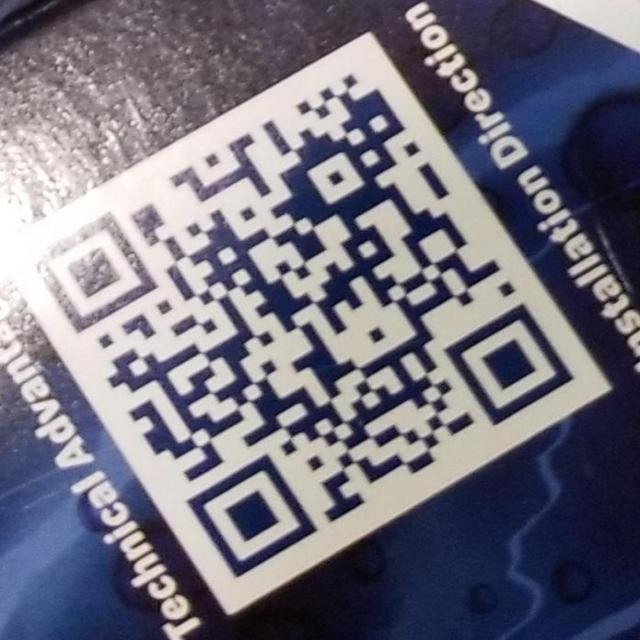QR_CODE: (33, 71, 574, 578)
